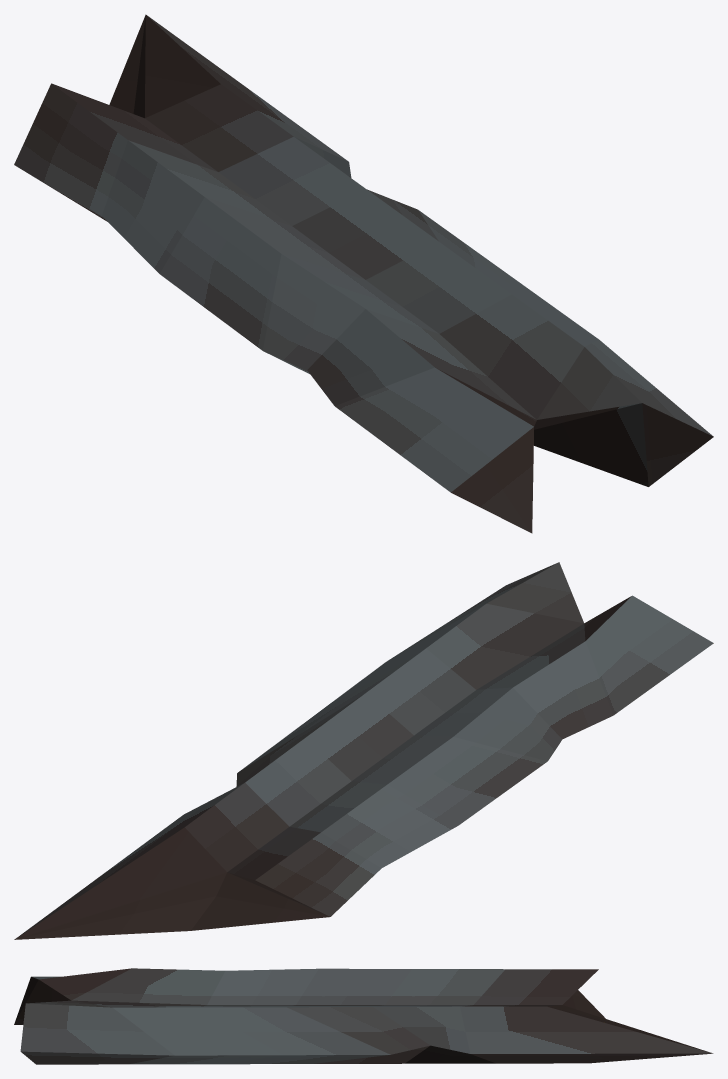
The model's file is metalscrap.gltf.
The picture shows the model from 3 angles, top to bottom: view 1: azimuth 30°, elevation 25°; view 2: azimuth 150°, elevation 25°; view 3: azimuth 270°, elevation 25°; orthographic projection. The views are drawn at different scales.
Visible parts, largest first — view 1: Scrap; view 2: Scrap; view 3: Scrap.
Part boxes in pixels (x1,y1,x2,y2): Scrap: [14, 14, 713, 533]; Scrap: [14, 562, 713, 939]; Scrap: [14, 968, 713, 1064].
Bounding box in the file's own units: 0.1117 × 0.0375 × 0.4188.
Materials: 1 (1 with a texture image).
